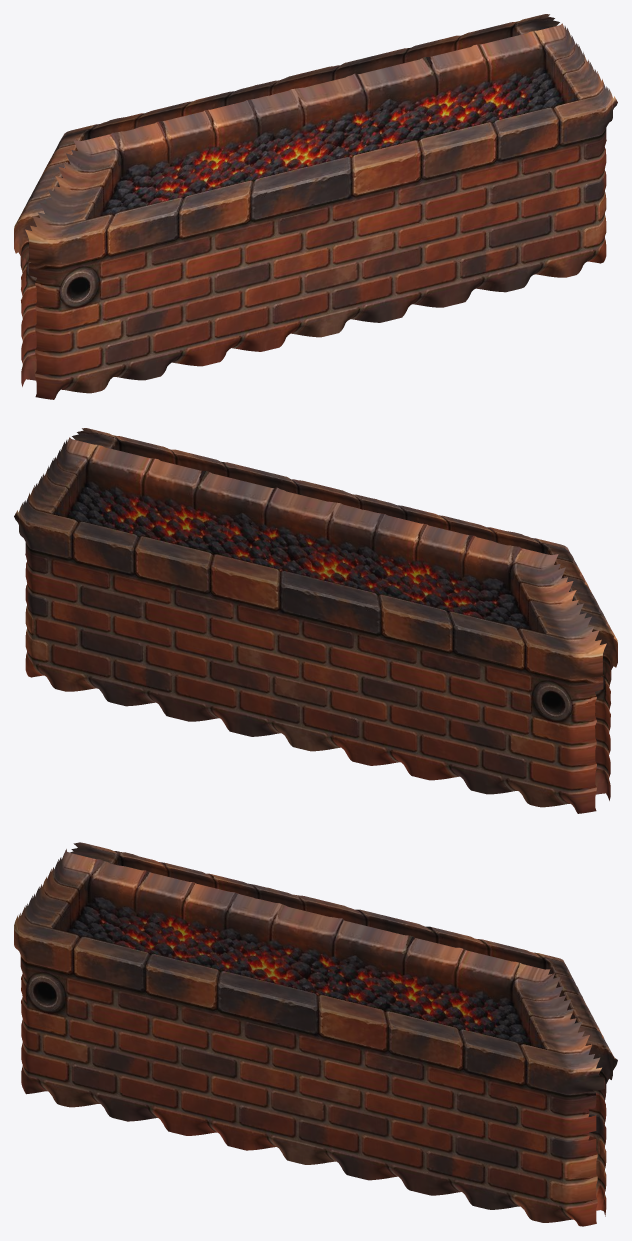
File: v4-forge-scatter-forge.glb
3 views of the same model, one above another, from view 1: azimuth 30°, elevation 25°; view 2: azimuth 150°, elevation 25°; view 3: azimuth 330°, elevation 25° (orthographic).
Parts seen in each view (by area): view 1: v4-forge-scatter-forge; view 2: v4-forge-scatter-forge; view 3: v4-forge-scatter-forge.
Part boxes in pixels (x1,y1,x2,y2): v4-forge-scatter-forge: (14,14,617,399); v4-forge-scatter-forge: (14,428,617,813); v4-forge-scatter-forge: (14,842,617,1226).
Bounding box in the file's own units: 2.43 × 0.9692 × 0.24.
Materials: 1 (1 with a texture image).
